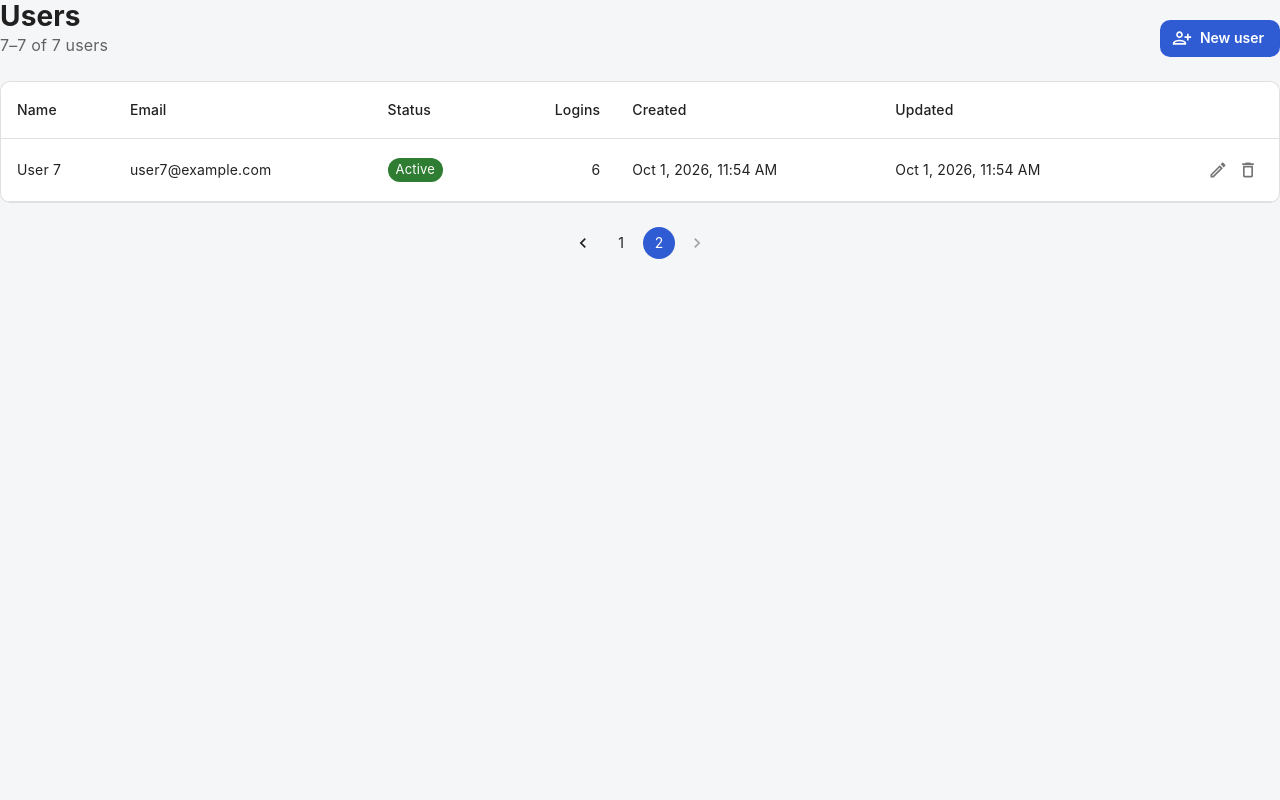
Test: UsersDashboard: delete (T7.6, T7.7) › deleting the last row of a page moves to the previous page
Step 1. Click the button named "Delete User 7" → [1248, 170], box x1=1233 y1=155 x2=1263 y2=185
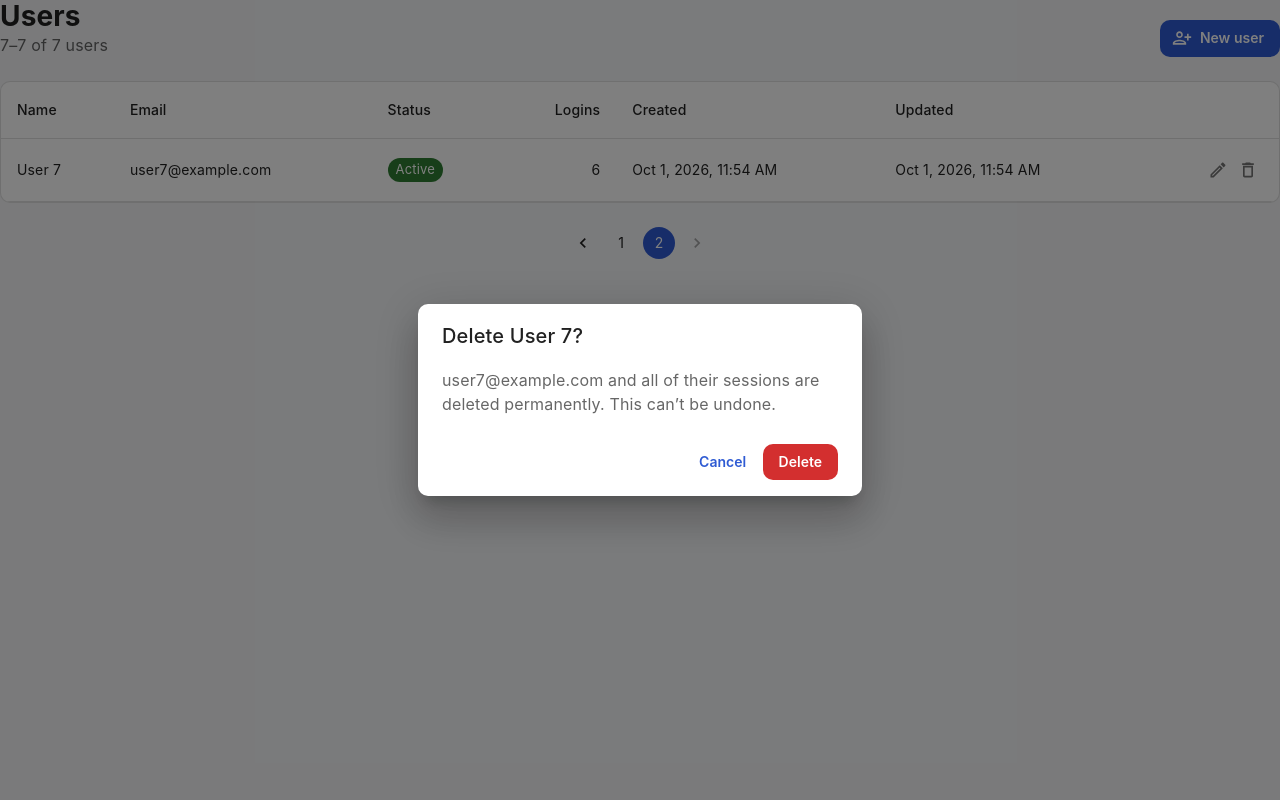
Step 2. Click the button "Delete" → [800, 462], box x1=763 y1=444 x2=838 y2=480
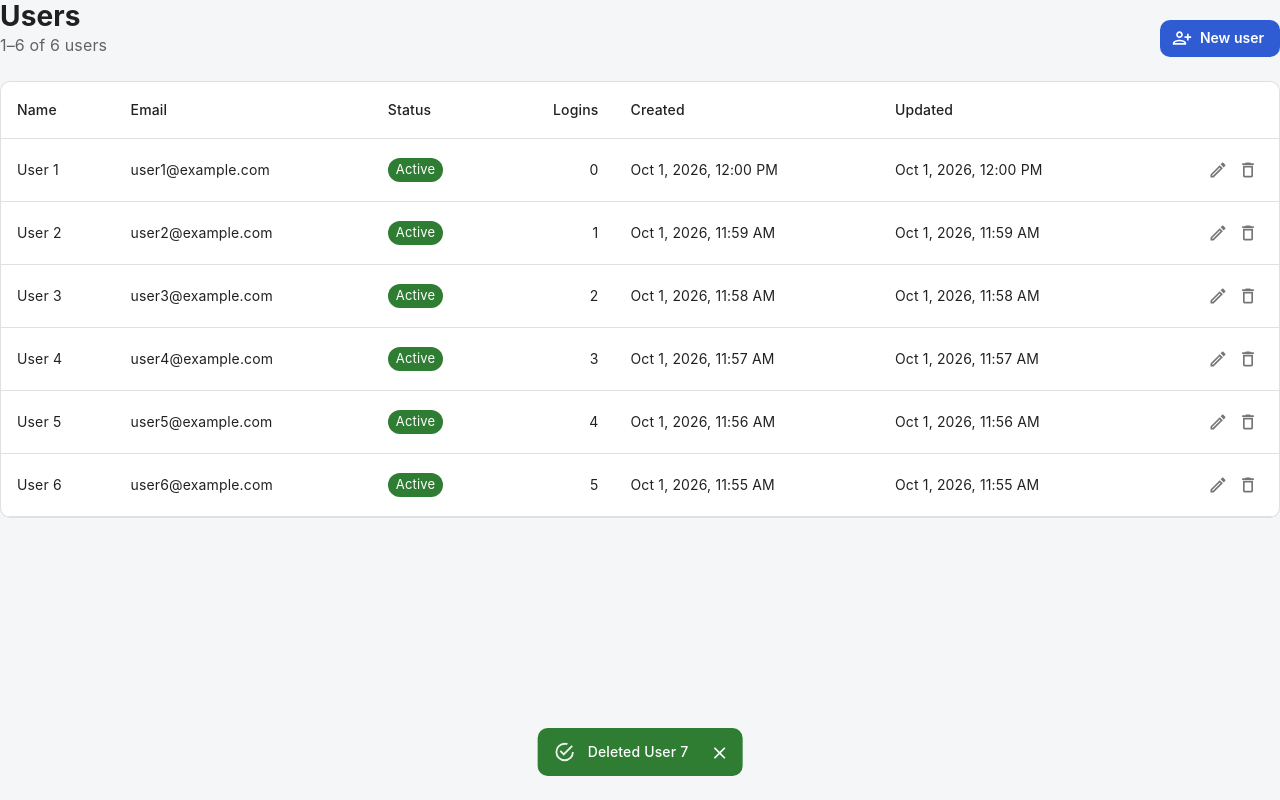
Result: the navigation bar is gone
